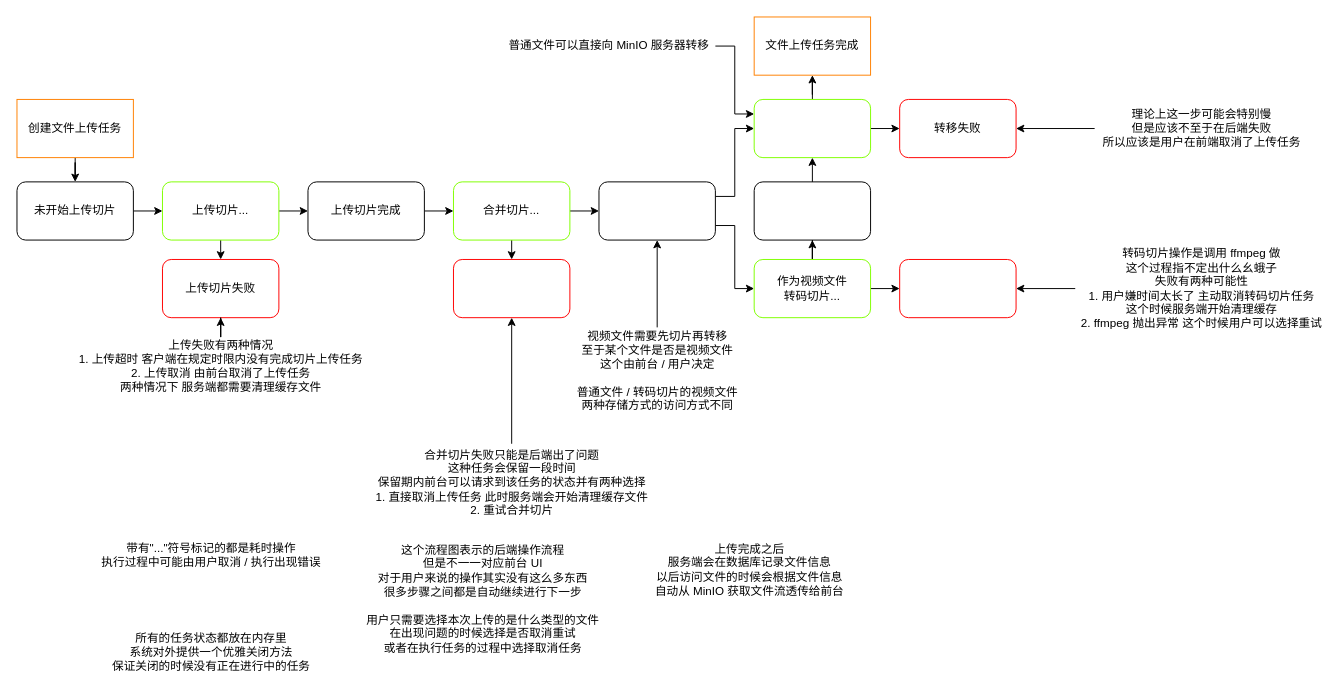
This 1344x694 diagram has some shape labels left out. The box of each missing label's shape, as (x1, y1, x2, y2) in pixels:
合并切片失败: (453, 259, 570, 318)
合并切片完成: (598, 181, 715, 240)
向 MinIO 服务器 转移数据...: (753, 98, 871, 158)
转码切片失败: (899, 259, 1016, 318)
转码切片完成: (753, 181, 871, 240)
